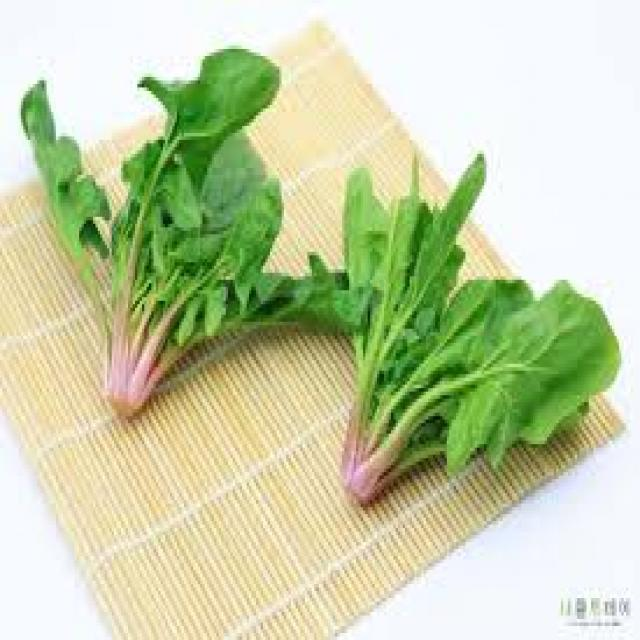spinach: (21, 49, 356, 416), (335, 154, 621, 502)
